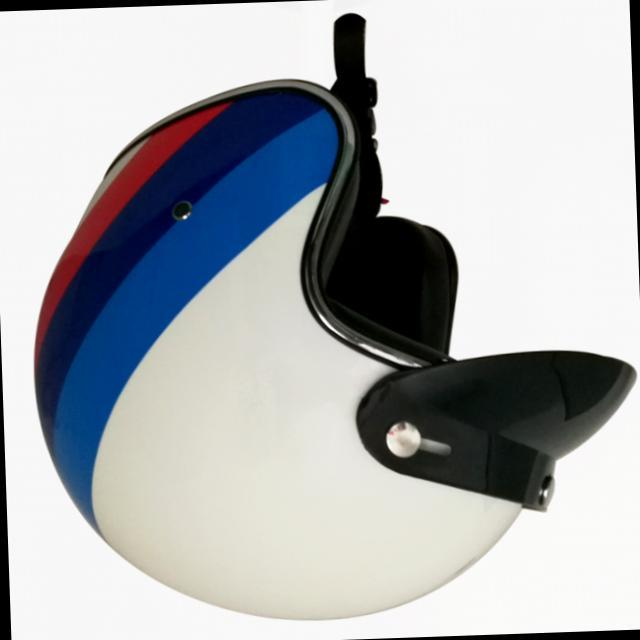Helm: (15, 0, 640, 638)
